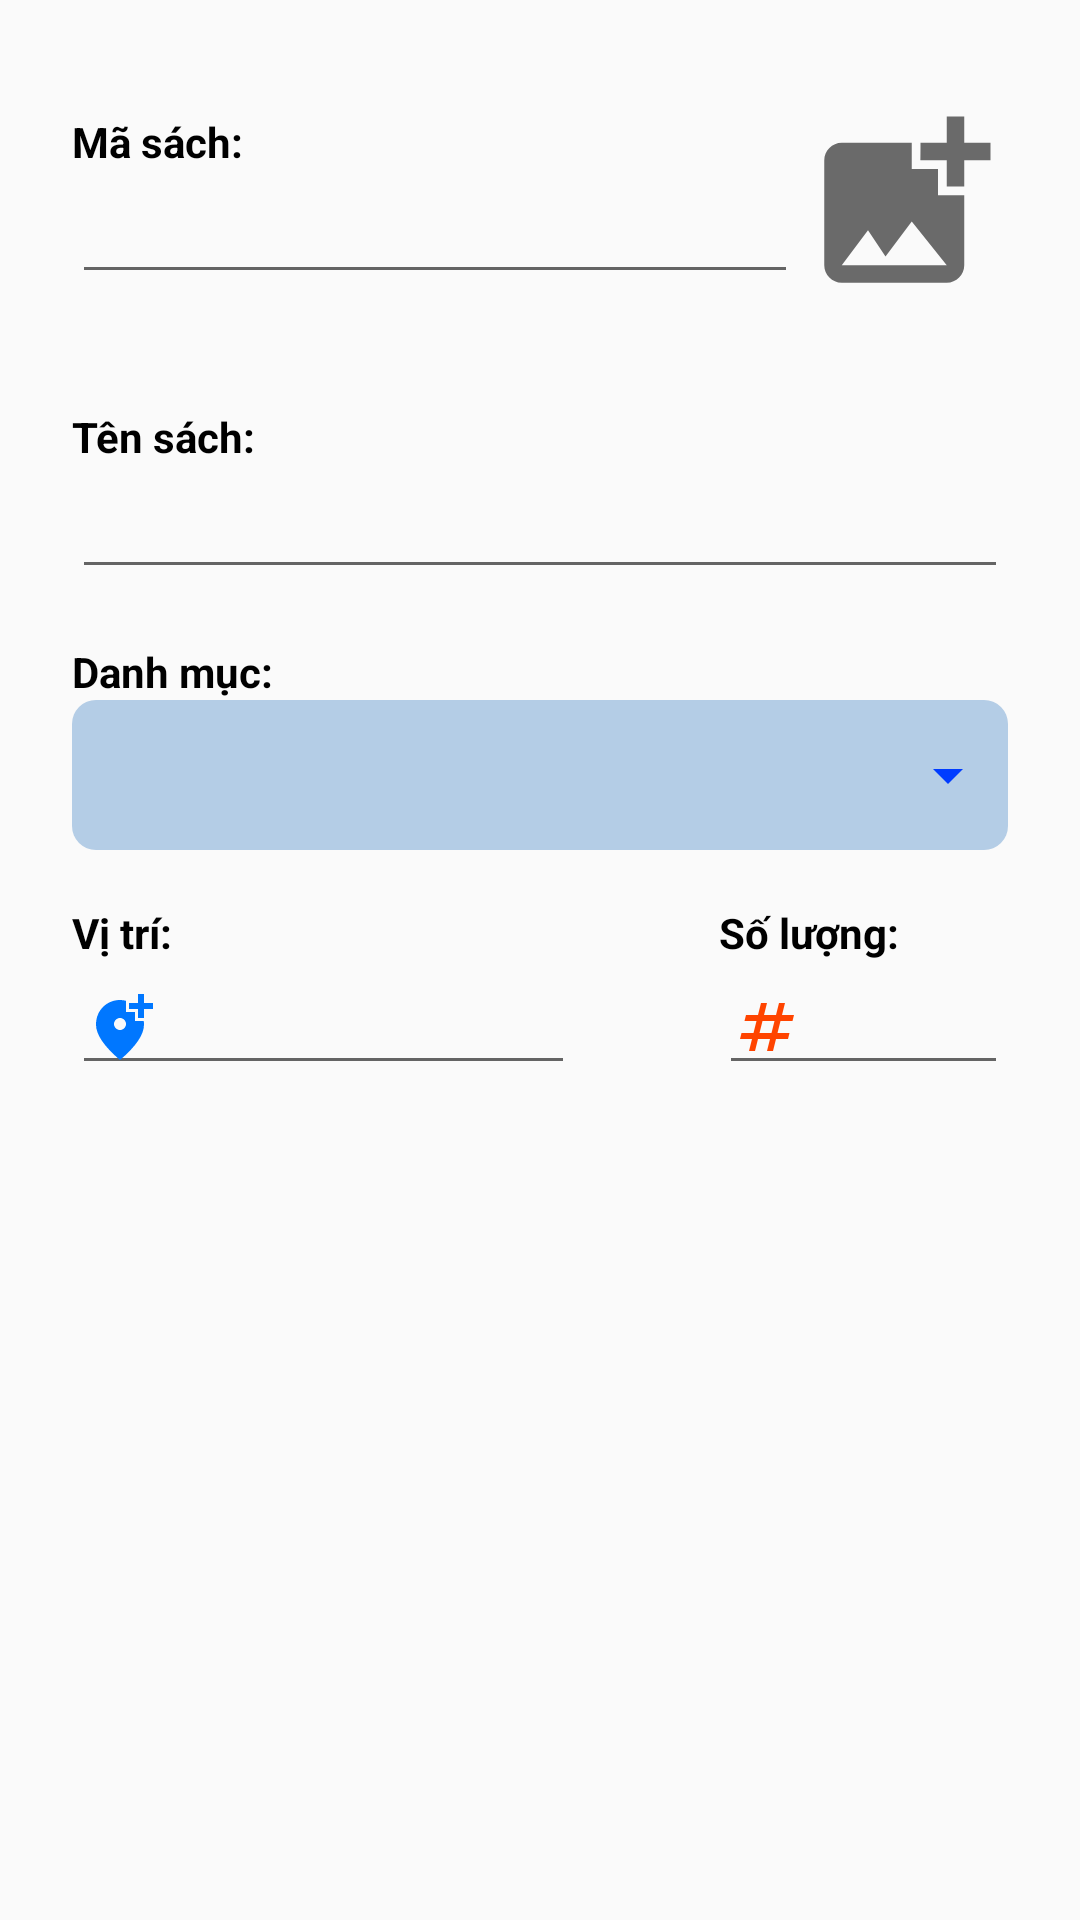

Screen size 1080 × 1920. Icon name, then its box in pixels as (x1, y1, x2, y2):
add photo alternate: (824, 116, 991, 283)
